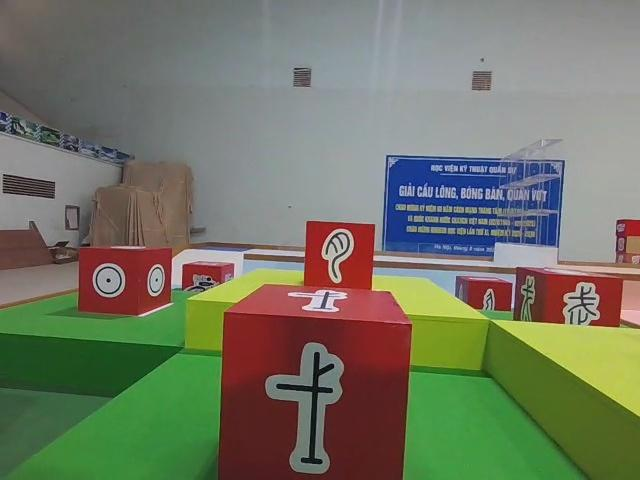R1: (180, 257, 236, 295)
R2 Fake: (514, 265, 625, 327), (303, 219, 376, 290)
R2 Real: (217, 282, 414, 480), (78, 243, 173, 315), (451, 273, 514, 319)
